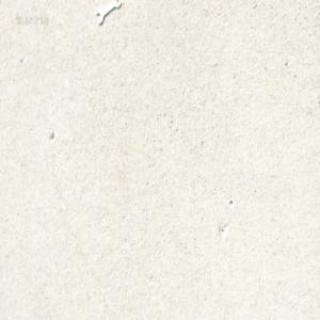Wrenchtrack_idkeyframe: (95, 1, 119, 28)
